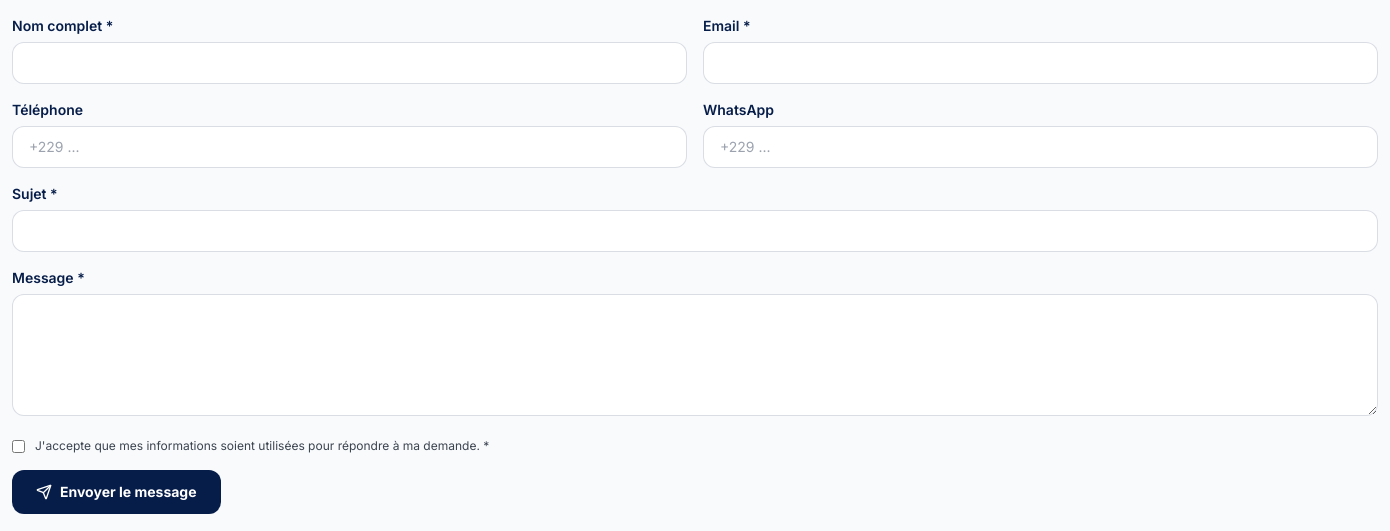
Test: Site vitrine - formulaire de contact › envoie le formulaire valide et affiche le message de succès
Step 1. Type "Jean K" into the field labelled "Nom complet *" → (350, 63), box [12, 42, 687, 84]
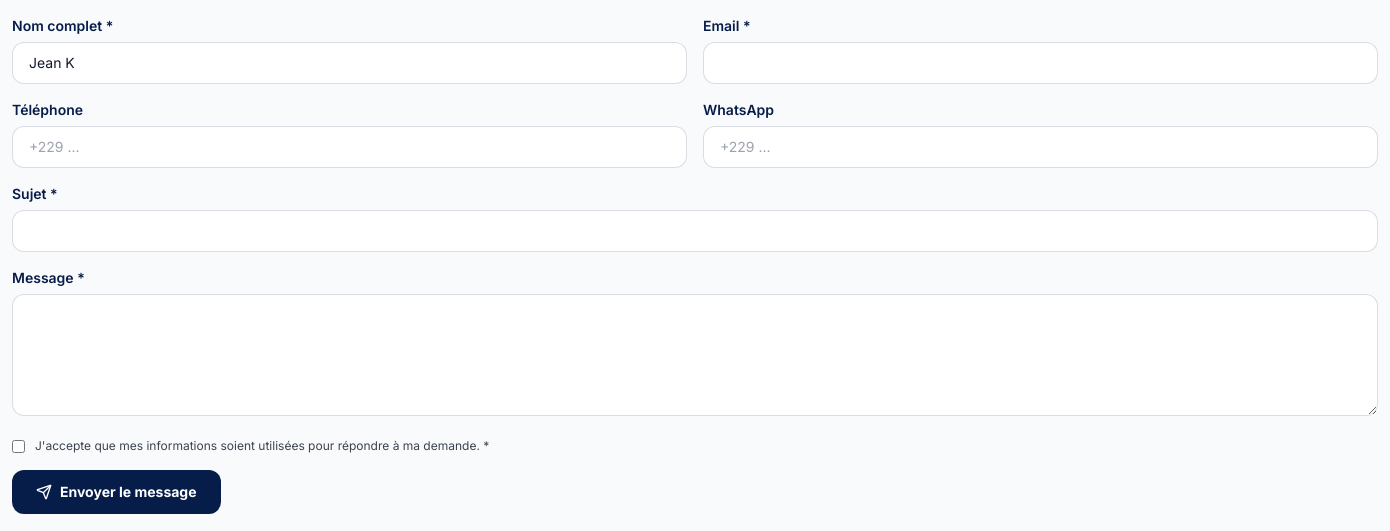
Step 2. Type "jean@exemple.bj" into the field labelled "Email *" → (1040, 63), box [703, 42, 1378, 84]
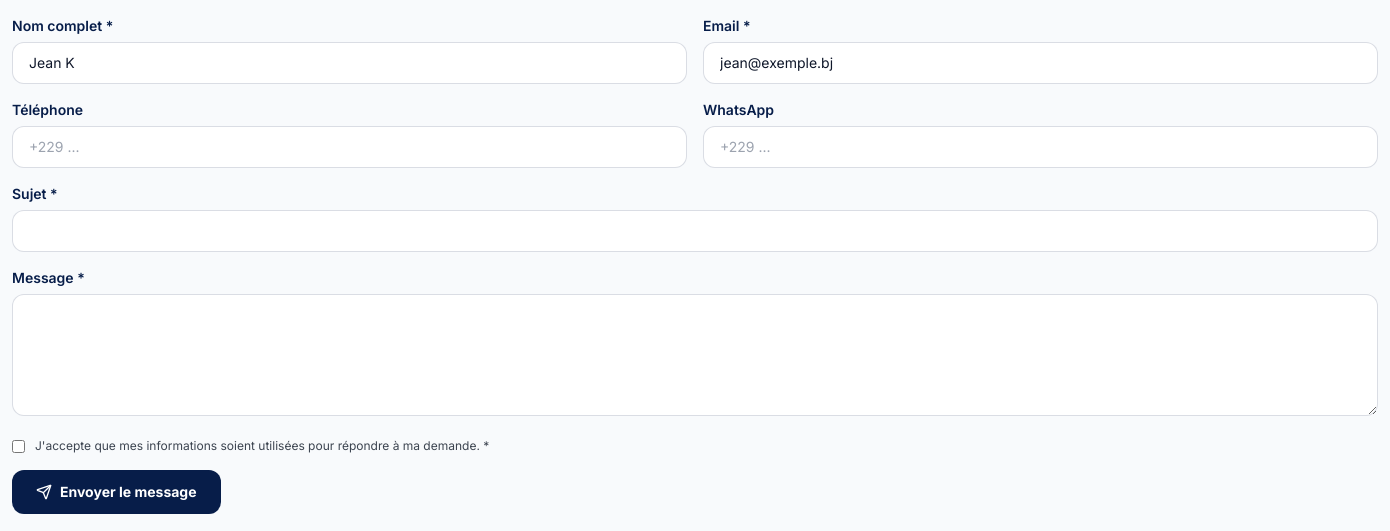
Step 3. Type "Infos" into the field labelled "Sujet *" → (695, 231), box [12, 210, 1378, 252]
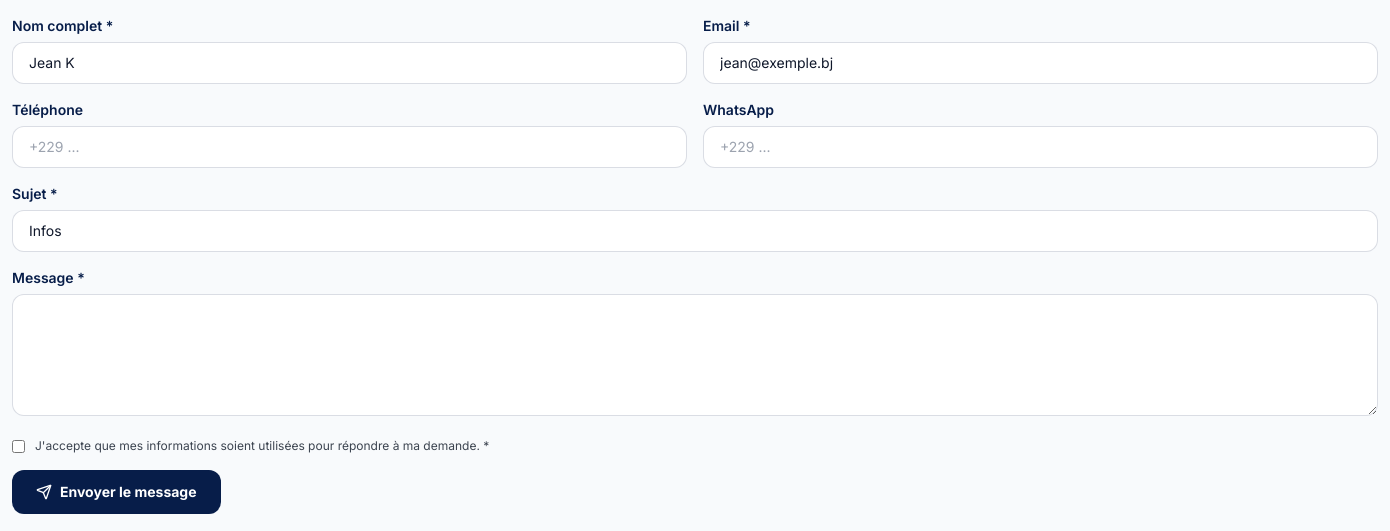
Step 4. Type "Bonjour" into the text box labelled "Message *" → (695, 355), box [12, 294, 1378, 416]
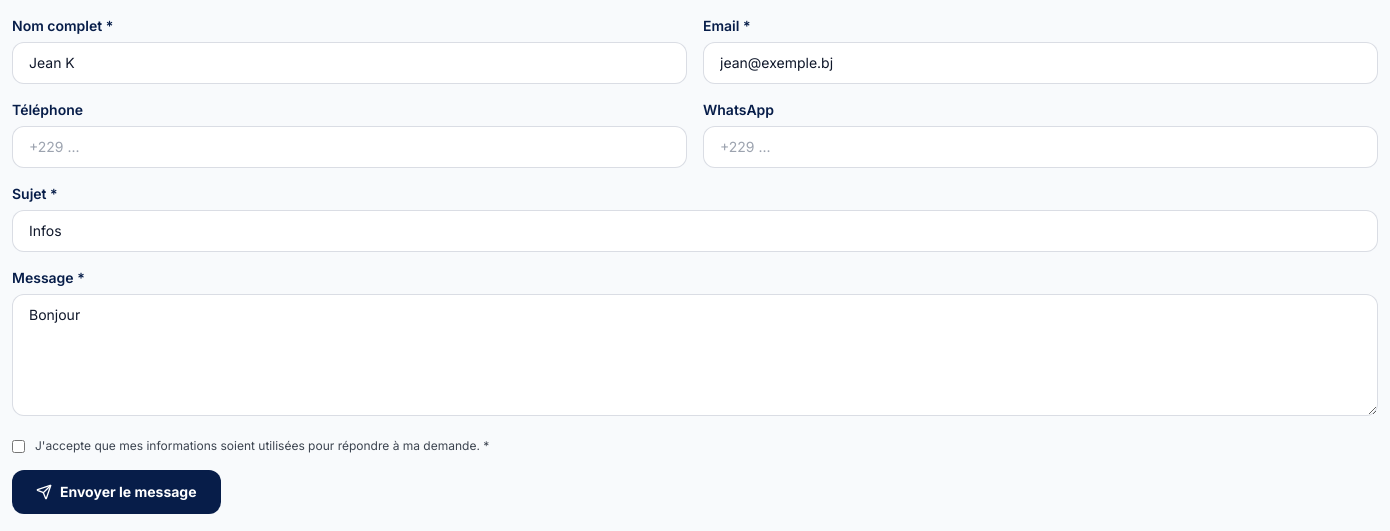
Step 5. Click the checkbox labelled "J'accepte que mes informations" → (18, 446), box [12, 440, 25, 453]
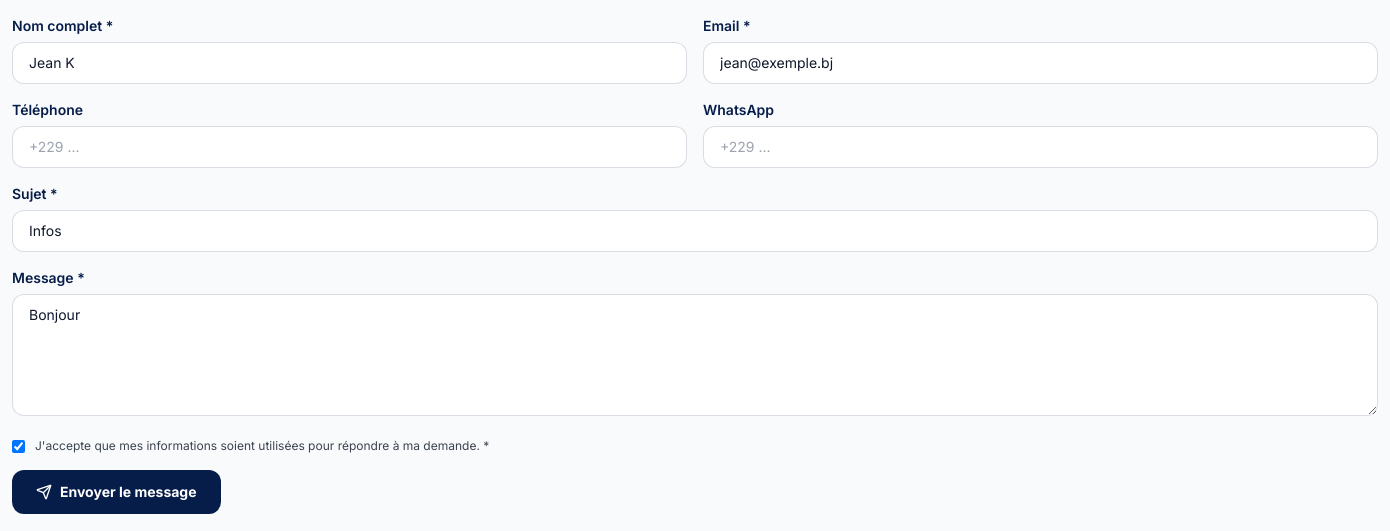
Step 6. Click the button "Envoyer le message" → (116, 492), box [12, 470, 221, 514]
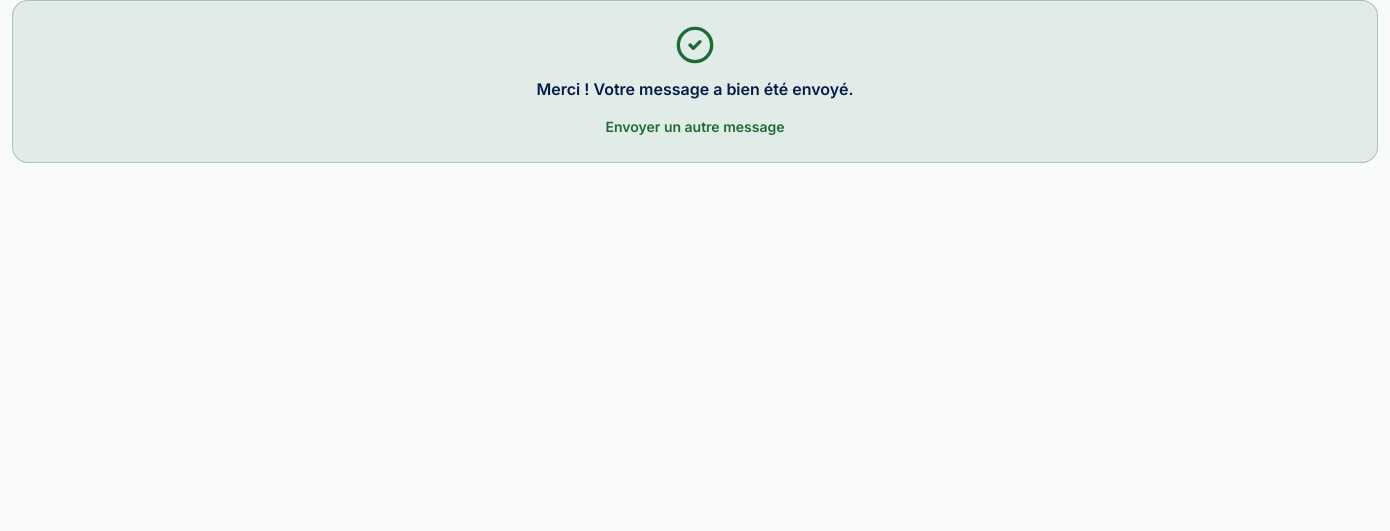
Expected: the text "Merci ! Votre message a bien été envoyé." is shown, [536, 79, 854, 99]
